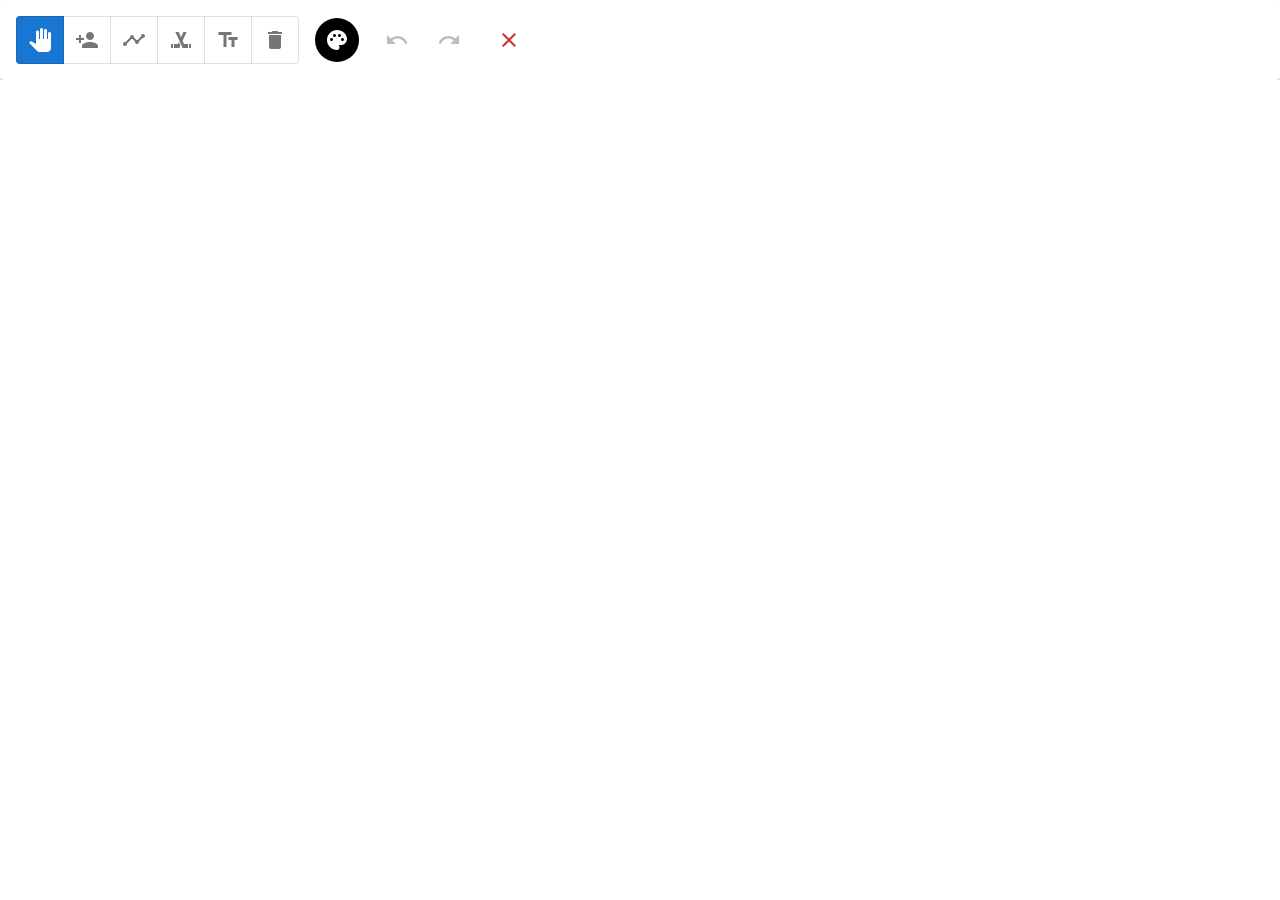
Test case: DrawingToolbar › Clear Canvas (Requirements: 5.3) › opens confirmation dialog when clear button is clicked
Click the button named "clear canvas" at (509,40), box [487,18,531,62]
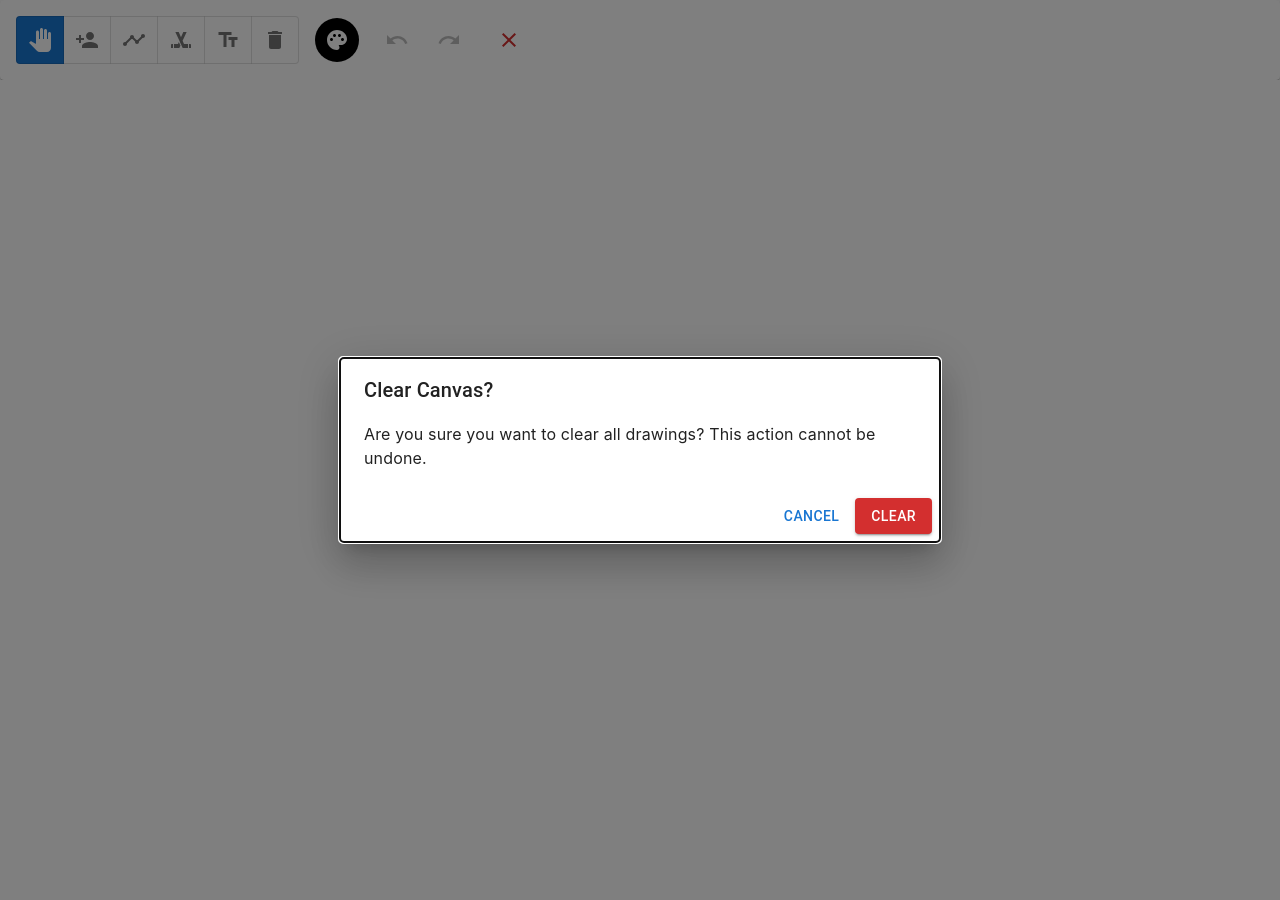
Expected: the heading "Clear Canvas?" is shown, [364,378,493,402]
Expected: the text "Are you sure you want to clear all drawings" is shown, [364,424,875,468]
